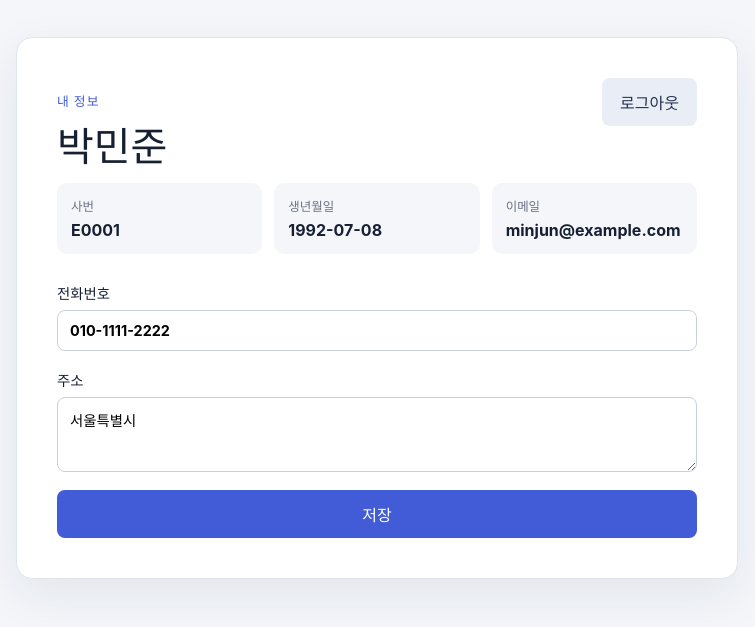
Test: 전화번호와 주소를 수정한다
The image size is (755, 627).
Replace the text in the field labelled "전화번호" with "010-9999-9999" at (377, 330), box [57,310,697,351]
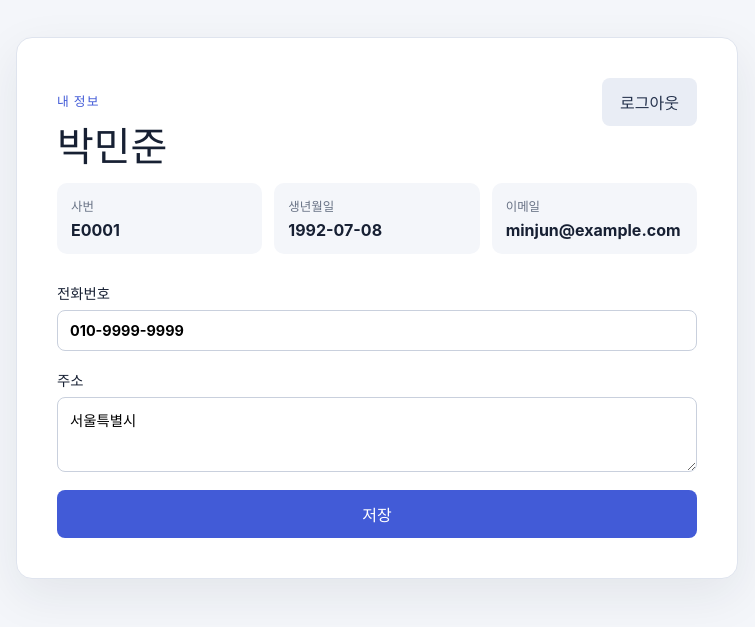
Click the button "저장" at (377, 514), box [57,490,697,538]
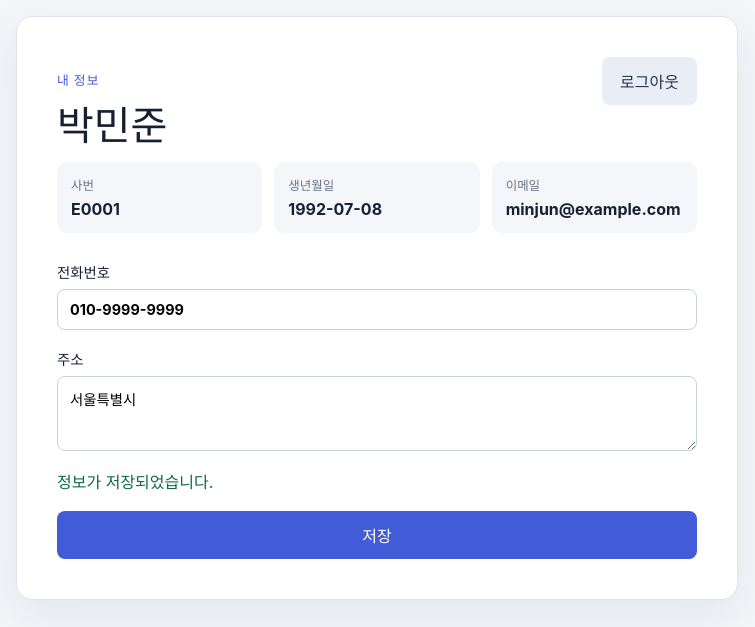
expect the text "정보가 저장되었습니다." is shown: met, box [57,472,213,492]
